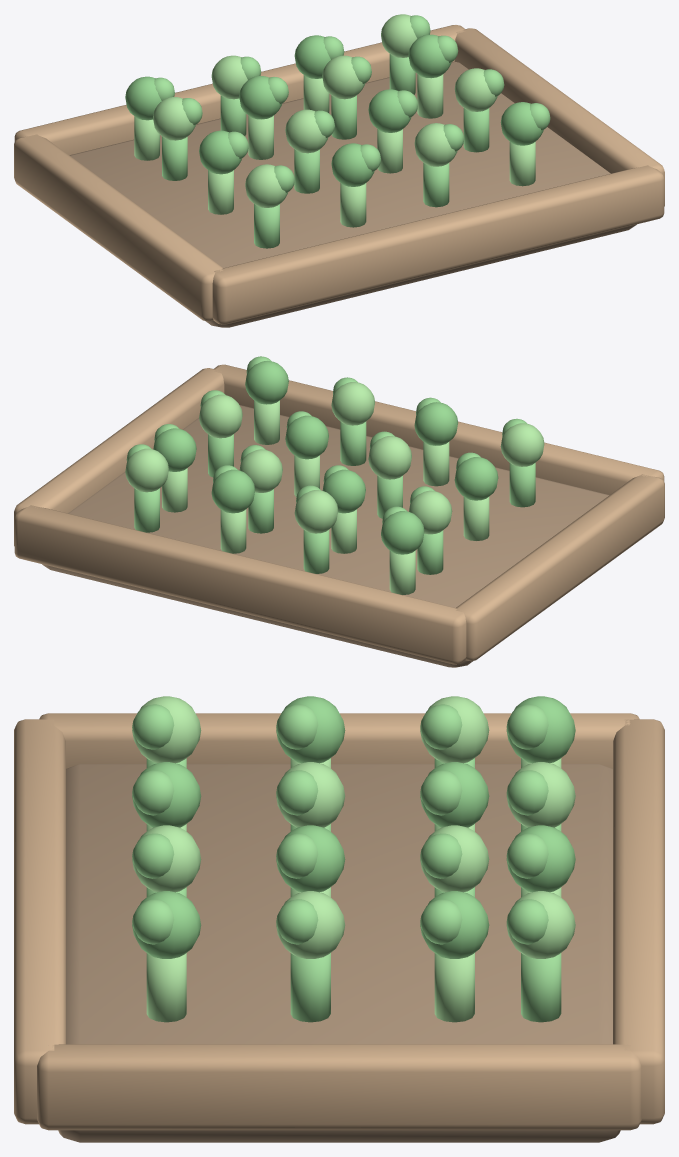
Rendered from cozy_farm_plot_A.glb.
3 renders of one model, top to bottom at view 1: azimuth 30°, elevation 25°; view 2: azimuth 150°, elevation 25°; view 3: azimuth 270°, elevation 25°, orthographic. The views are drawn at different scales.
Parts seen in each view (by area): view 1: Soil, RB, RR, RL, RT, L1_0, L2_1, L0_0, L0_1, L1_2, L3_2, L0_2 (+25 smaller); view 2: Soil, RT, RR, RB, RL, L0_1, L0_3, L1_3, L2_1, L2_3, L3_3, L1_0 (+25 smaller); view 3: Soil, RL, RB, RT, RR, C3_0, C3_3, C3_1, C3_2, L3_3, L3_0, L3_1 (+29 smaller).
Boxes of the visible parts, box(x1,y1,x2,y2) form: Soil: box(69, 62, 636, 327); RB: box(212, 165, 664, 324); RR: box(14, 134, 222, 321); RL: box(454, 28, 664, 206); RT: box(14, 25, 464, 155); L1_0: box(331, 143, 374, 186); L2_1: box(368, 89, 411, 132); L0_0: box(245, 164, 287, 207); L0_1: box(199, 130, 241, 174); L1_2: box(239, 75, 281, 119); L3_2: box(408, 34, 451, 78); L0_2: box(153, 97, 195, 140); Soil: box(42, 405, 609, 667); RT: box(14, 505, 466, 664); RR: box(456, 474, 664, 661); RB: box(214, 364, 664, 494); RL: box(14, 368, 224, 546); L0_1: box(454, 457, 498, 500); L0_3: box(381, 511, 424, 554); L1_3: box(294, 490, 338, 533); L2_1: box(285, 415, 328, 459); L2_3: box(211, 469, 255, 513); L3_3: box(125, 448, 168, 492); L1_0: box(414, 402, 458, 445); Soil: box(58, 764, 620, 1142); RL: box(37, 1044, 641, 1130); RB: box(14, 719, 65, 1124); RT: box(613, 719, 664, 1124); RR: box(39, 713, 639, 768); C3_0: box(146, 953, 186, 1022); C3_3: box(521, 953, 561, 1022); C3_1: box(290, 953, 330, 1022); C3_2: box(434, 953, 474, 1022); L3_3: box(506, 891, 575, 958); L3_0: box(132, 891, 201, 958); L3_1: box(276, 891, 345, 958).
Size of the model in its own units: 1.45 by 0.37 by 1.13.
